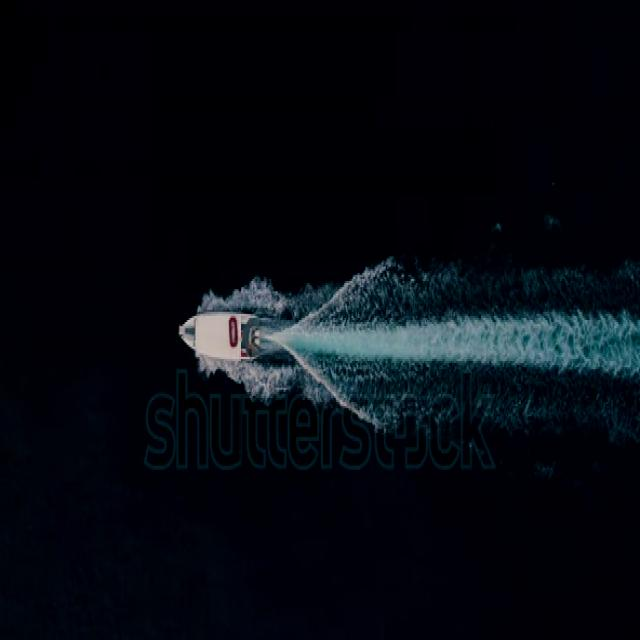ship: (175, 305, 265, 360)
